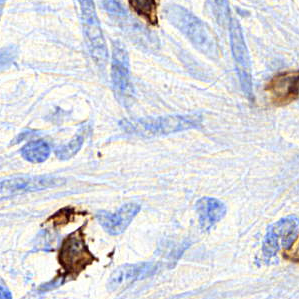Lymphocyte: (59, 230, 96, 277)
